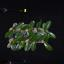leaf: (12, 21, 24, 30), (43, 41, 53, 51), (45, 30, 56, 38), (5, 29, 13, 38), (24, 41, 31, 51), (10, 40, 16, 51), (30, 41, 36, 52), (14, 30, 22, 38), (28, 30, 36, 38), (28, 20, 34, 30), (36, 19, 42, 29), (45, 20, 51, 30), (21, 23, 29, 30), (43, 33, 50, 41), (16, 41, 21, 50), (41, 22, 46, 30), (20, 41, 25, 48), (13, 22, 17, 29), (13, 38, 26, 40), (8, 42, 12, 48)
